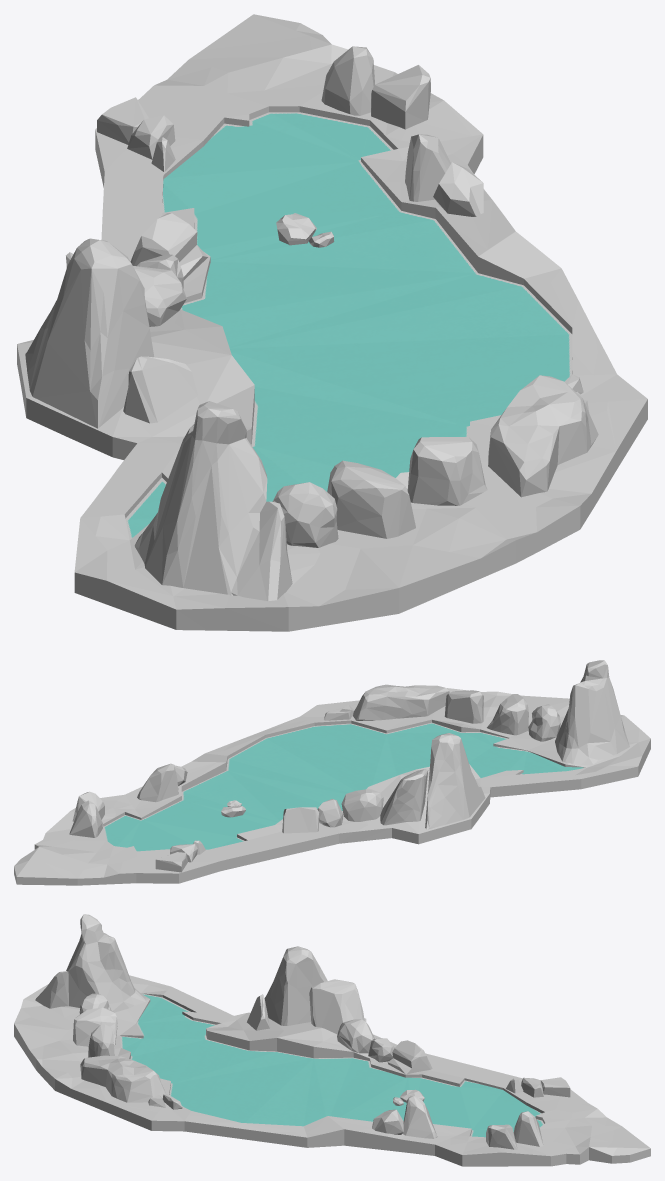
File: Dolet.fbx
The picture shows the model from 3 angles, top to bottom: view 1: azimuth 30°, elevation 25°; view 2: azimuth 150°, elevation 25°; view 3: azimuth 270°, elevation 25°; orthographic projection. The views are drawn at different scales.
Parts seen in each view (by area): view 1: model_0; view 2: model_0; view 3: model_0.
Part boxes in pixels (<box>): model_0: <box>17,14,647,631</box>; model_0: <box>14,660,650,885</box>; model_0: <box>14,914,650,1166</box>.
Bounding box in the file's own units: 875 × 204 × 1277.
Materials: 1 (1 with a texture image).
